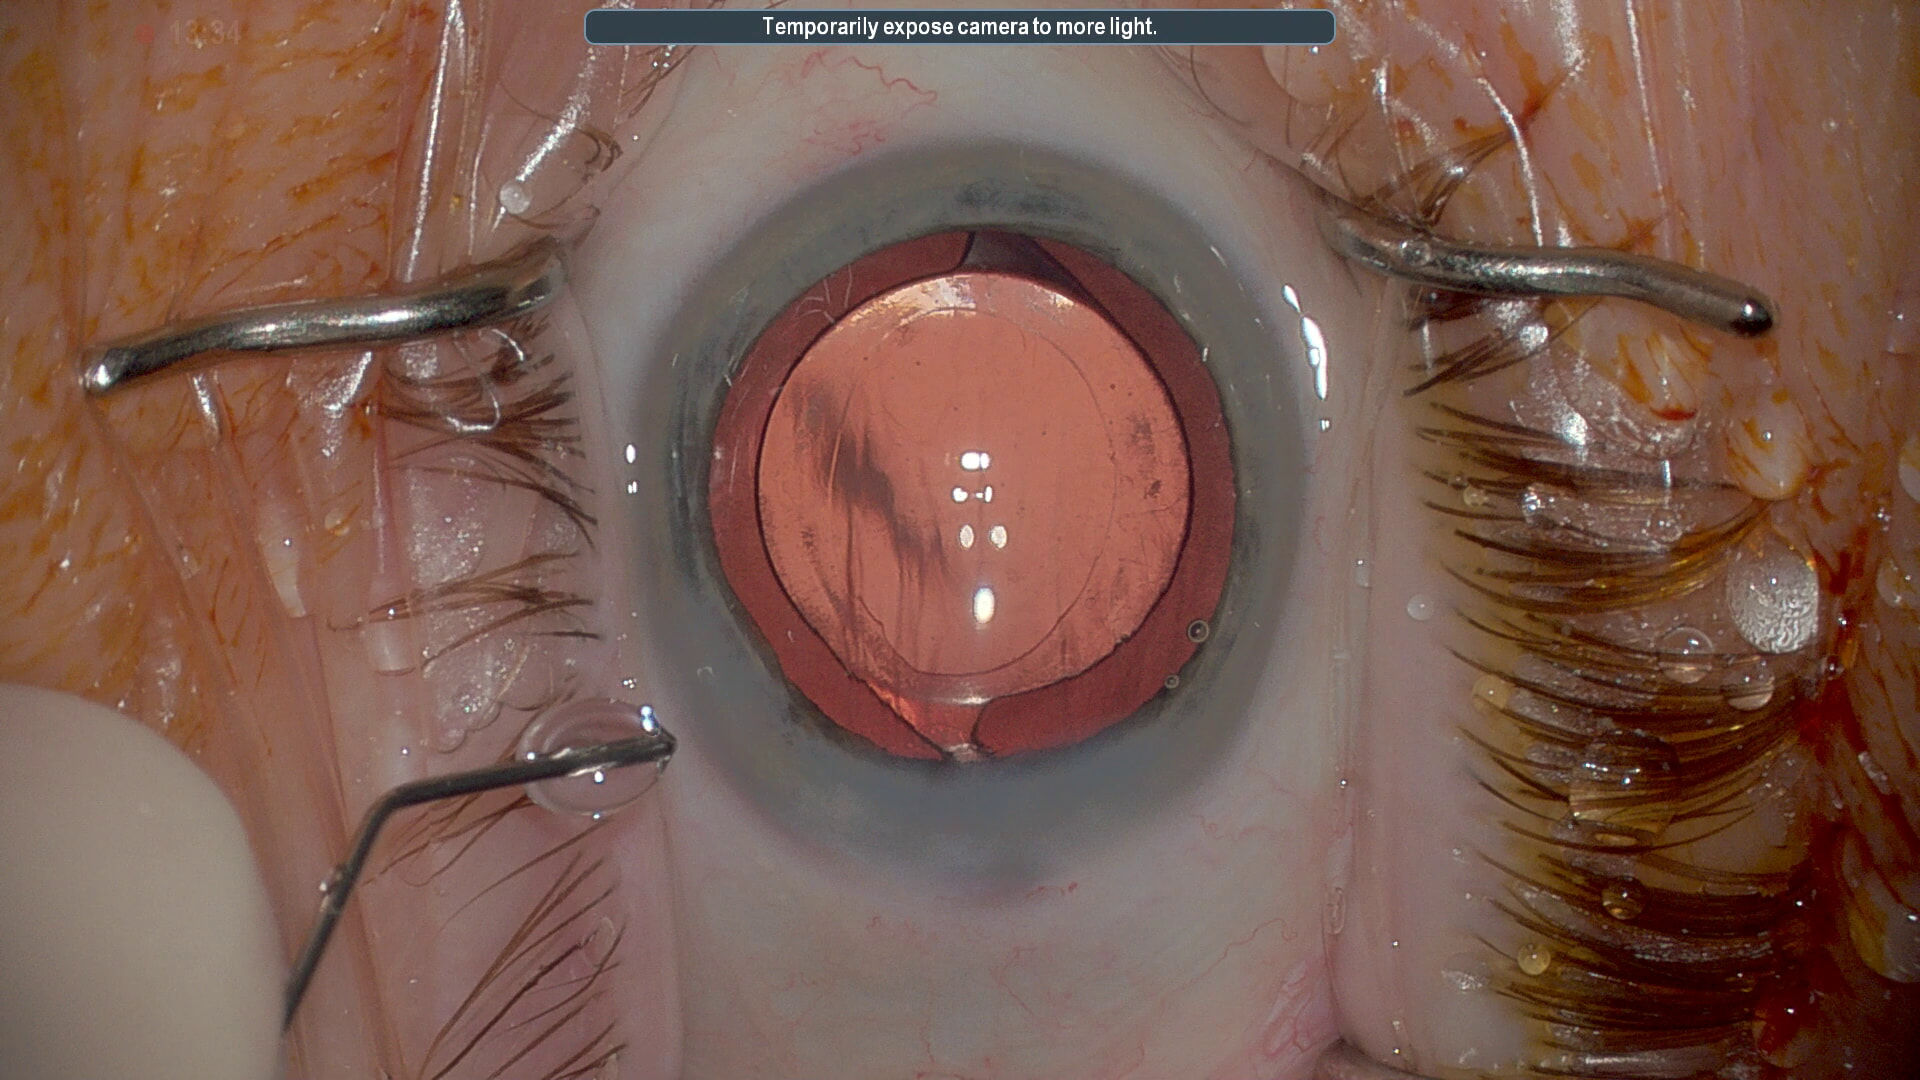iris: (640, 146, 1298, 861)
pupil: (696, 228, 1245, 760)
